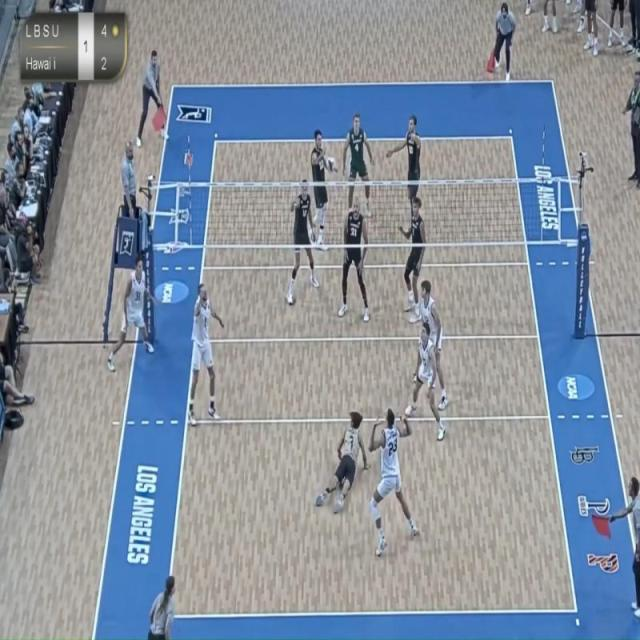volleyball: (325, 152, 337, 175)
